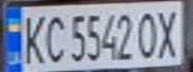2: (115, 9, 136, 61)
4: (100, 9, 121, 61)
5: (66, 10, 87, 62), (84, 10, 103, 62)
C: (42, 10, 69, 64)
K: (18, 10, 48, 65)
O: (136, 7, 160, 60)
X: (154, 6, 184, 60)
